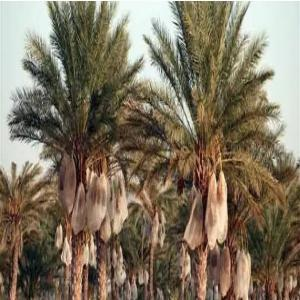palm tree: (131, 0, 294, 298), (6, 0, 145, 299), (0, 158, 54, 298)
